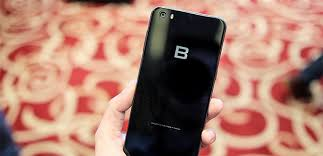bphone: (120, 3, 229, 156)
